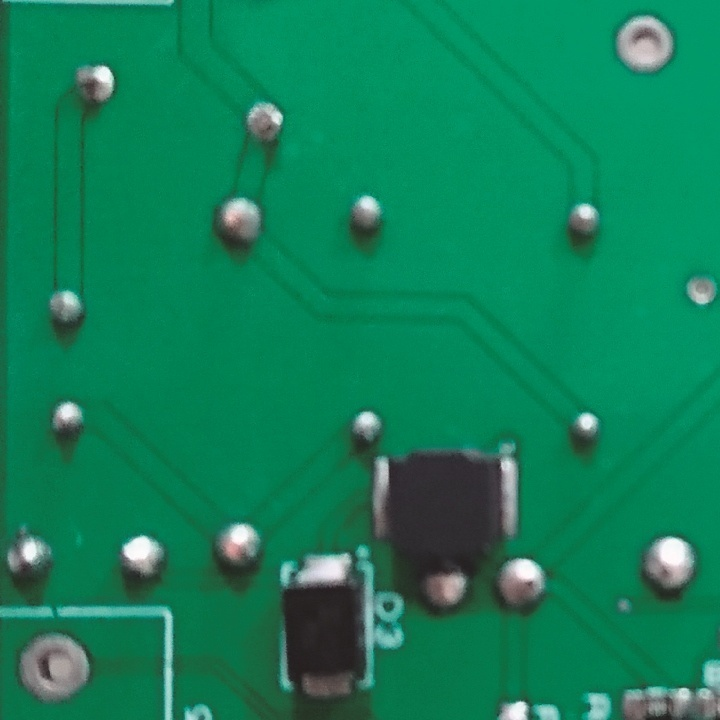F: (16, 627, 99, 706), (610, 9, 679, 76), (681, 267, 720, 315)
